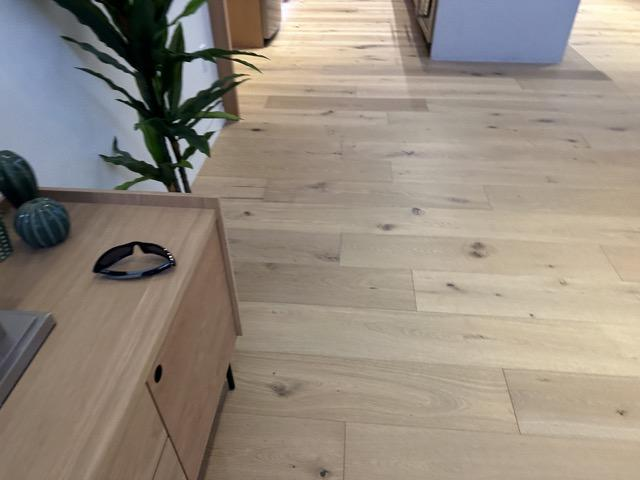Sunglasses: (93, 240, 178, 280)
